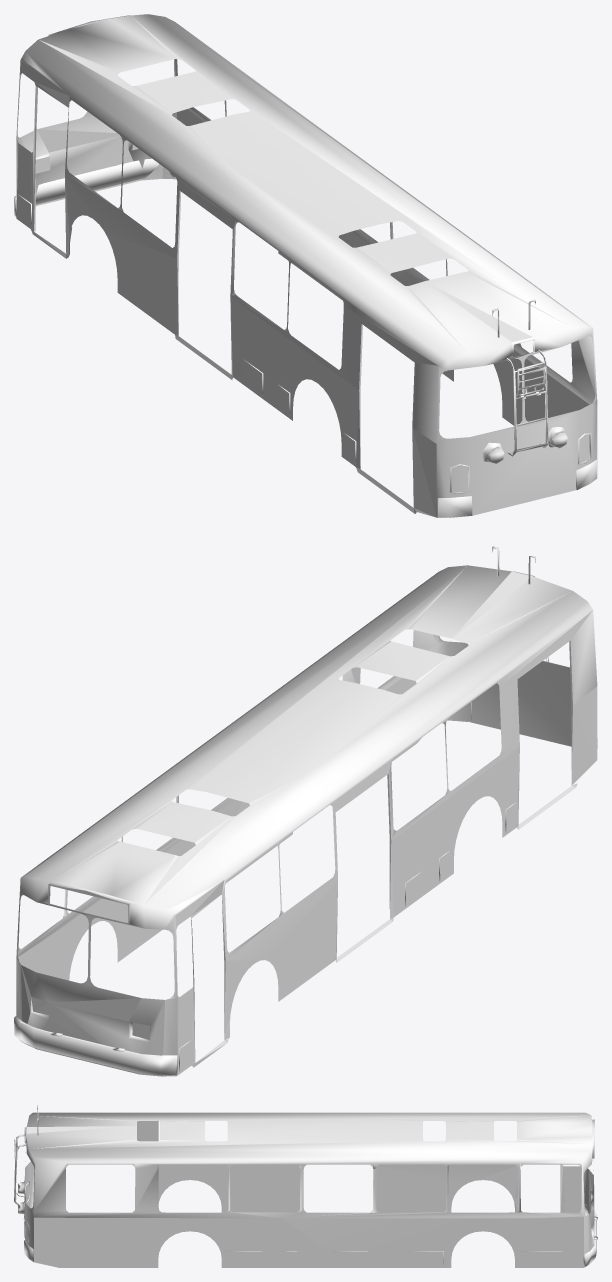
3 views of the same model, one above another, from view 1: azimuth 30°, elevation 25°; view 2: azimuth 150°, elevation 25°; view 3: azimuth 270°, elevation 25° (orthographic). The views are drawn at different scales.
Bounding box in the file's own units: 2.4 × 2.86 × 11.39.
Materials: 1 (1 with a texture image).
